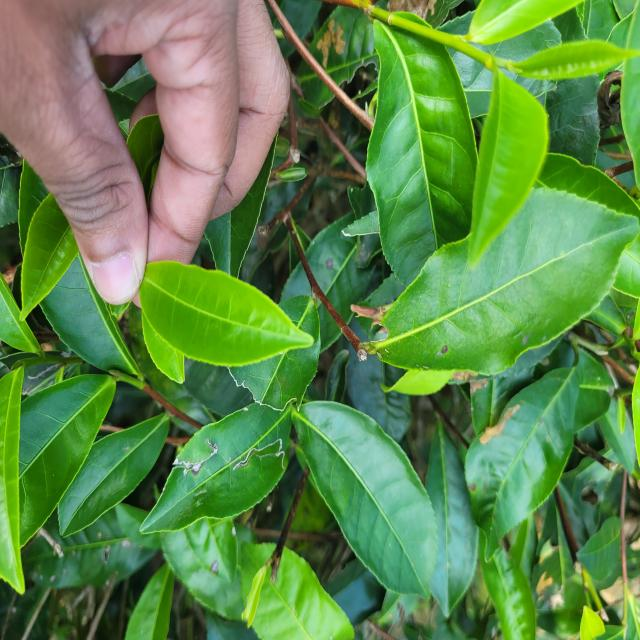Catagory A(1-2 days): (103, 245, 320, 383), (503, 32, 640, 93)
